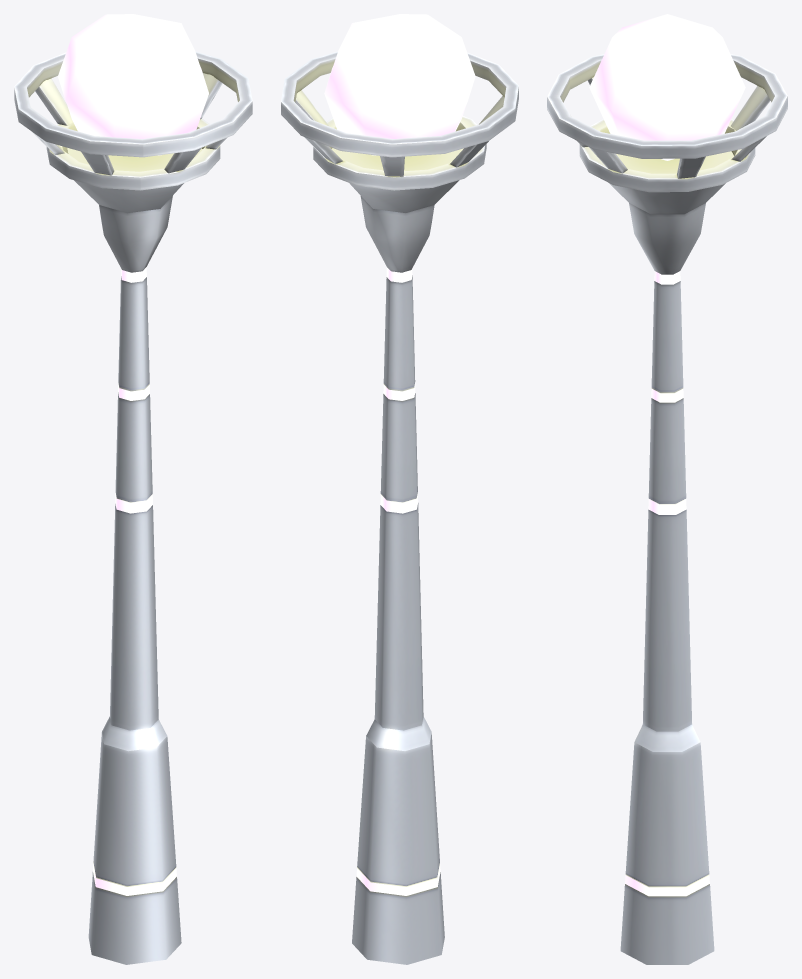
File: obj_light03.gltf
3 views of the same model, side by side, from view 1: azimuth 30°, elevation 25°; view 2: azimuth 150°, elevation 25°; view 3: azimuth 270°, elevation 25° (orthographic).
Parts seen in each view (by area): view 1: obj_light03; view 2: obj_light03; view 3: obj_light03.
Boxes of the visible parts, left/top/right/bottom form: obj_light03: left=14, top=14, right=252, bottom=964; obj_light03: left=281, top=14, right=518, bottom=964; obj_light03: left=547, top=14, right=787, bottom=964.
Size of what is drawn, in the model's own units: 0.5724 by 2.5 by 0.5862.
Materials: 2 (1 with a texture image).
